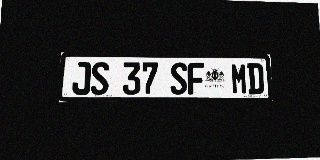3: (123, 62, 140, 95)
7: (141, 62, 158, 95)
D: (247, 63, 264, 94)
F: (188, 63, 205, 95)
J: (72, 62, 91, 95)
M: (231, 63, 248, 94)
S: (91, 62, 109, 95), (170, 62, 187, 95)
